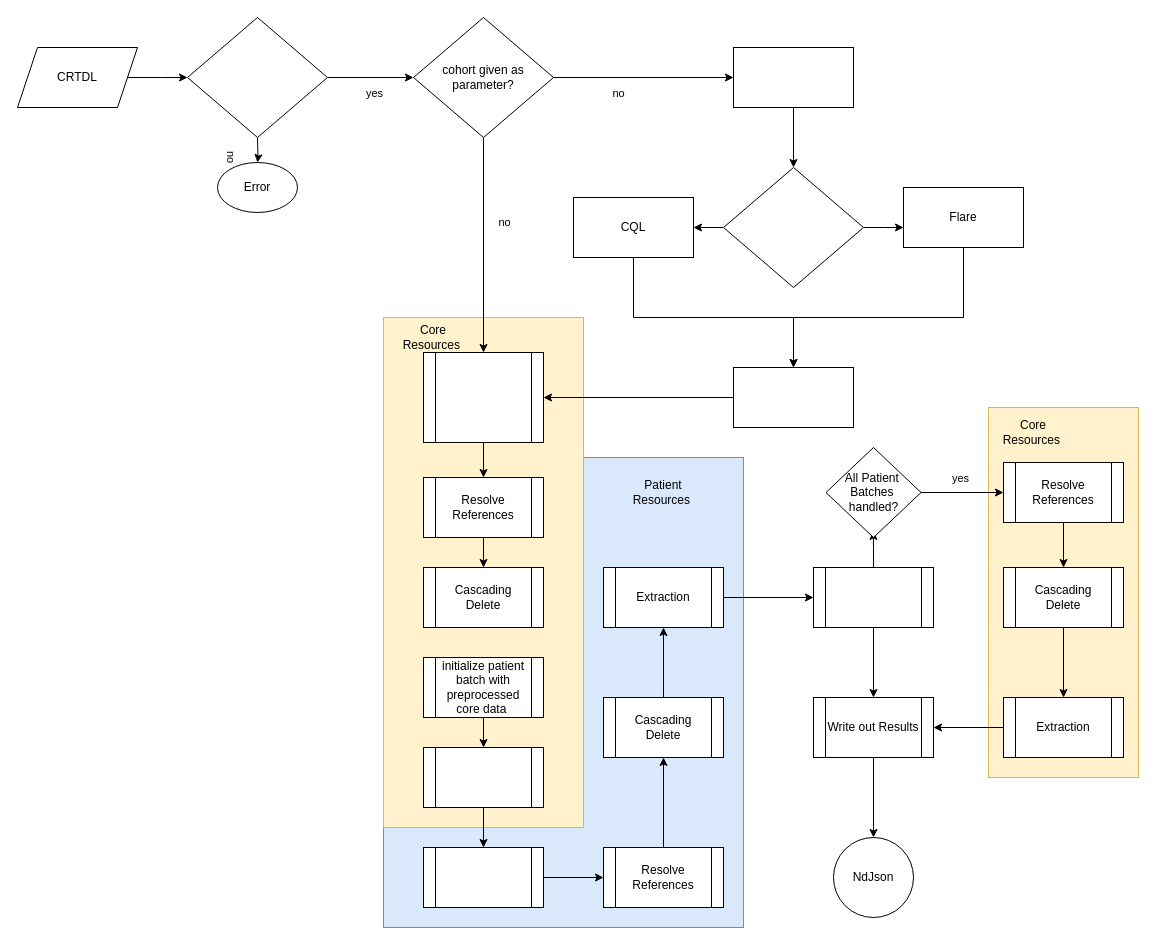
This 1156x945 diagram has some shape labels left out. Each missing label, with the box of its shape:
Execute Cohort Selection (CCDL): (732, 46, 854, 108)
Fetch and assign Resources for directly loaded Attribute Groups: (422, 846, 544, 908)
Fetch and assign Resources for directly loaded Core Attribute Groups: (422, 352, 544, 442)
fetch and build batch consent: (422, 746, 544, 808)
Fetch Patients: (732, 366, 854, 428)
Update Core Data: (812, 566, 934, 628)
valid CRTDL?: (186, 16, 328, 138)
Which method?: (722, 166, 864, 288)
